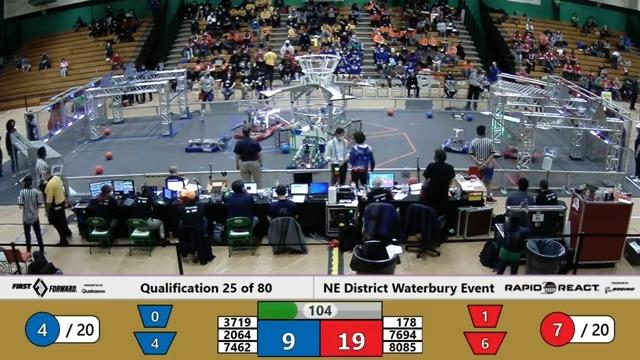robot: (183, 106, 233, 154), (231, 100, 275, 146), (245, 90, 287, 132), (289, 132, 330, 175), (501, 120, 540, 164), (440, 123, 475, 155)
